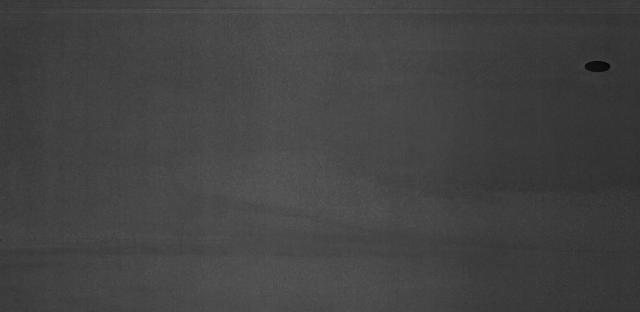punching_hole: (579, 57, 616, 74)
welding_line: (3, 3, 635, 19)
